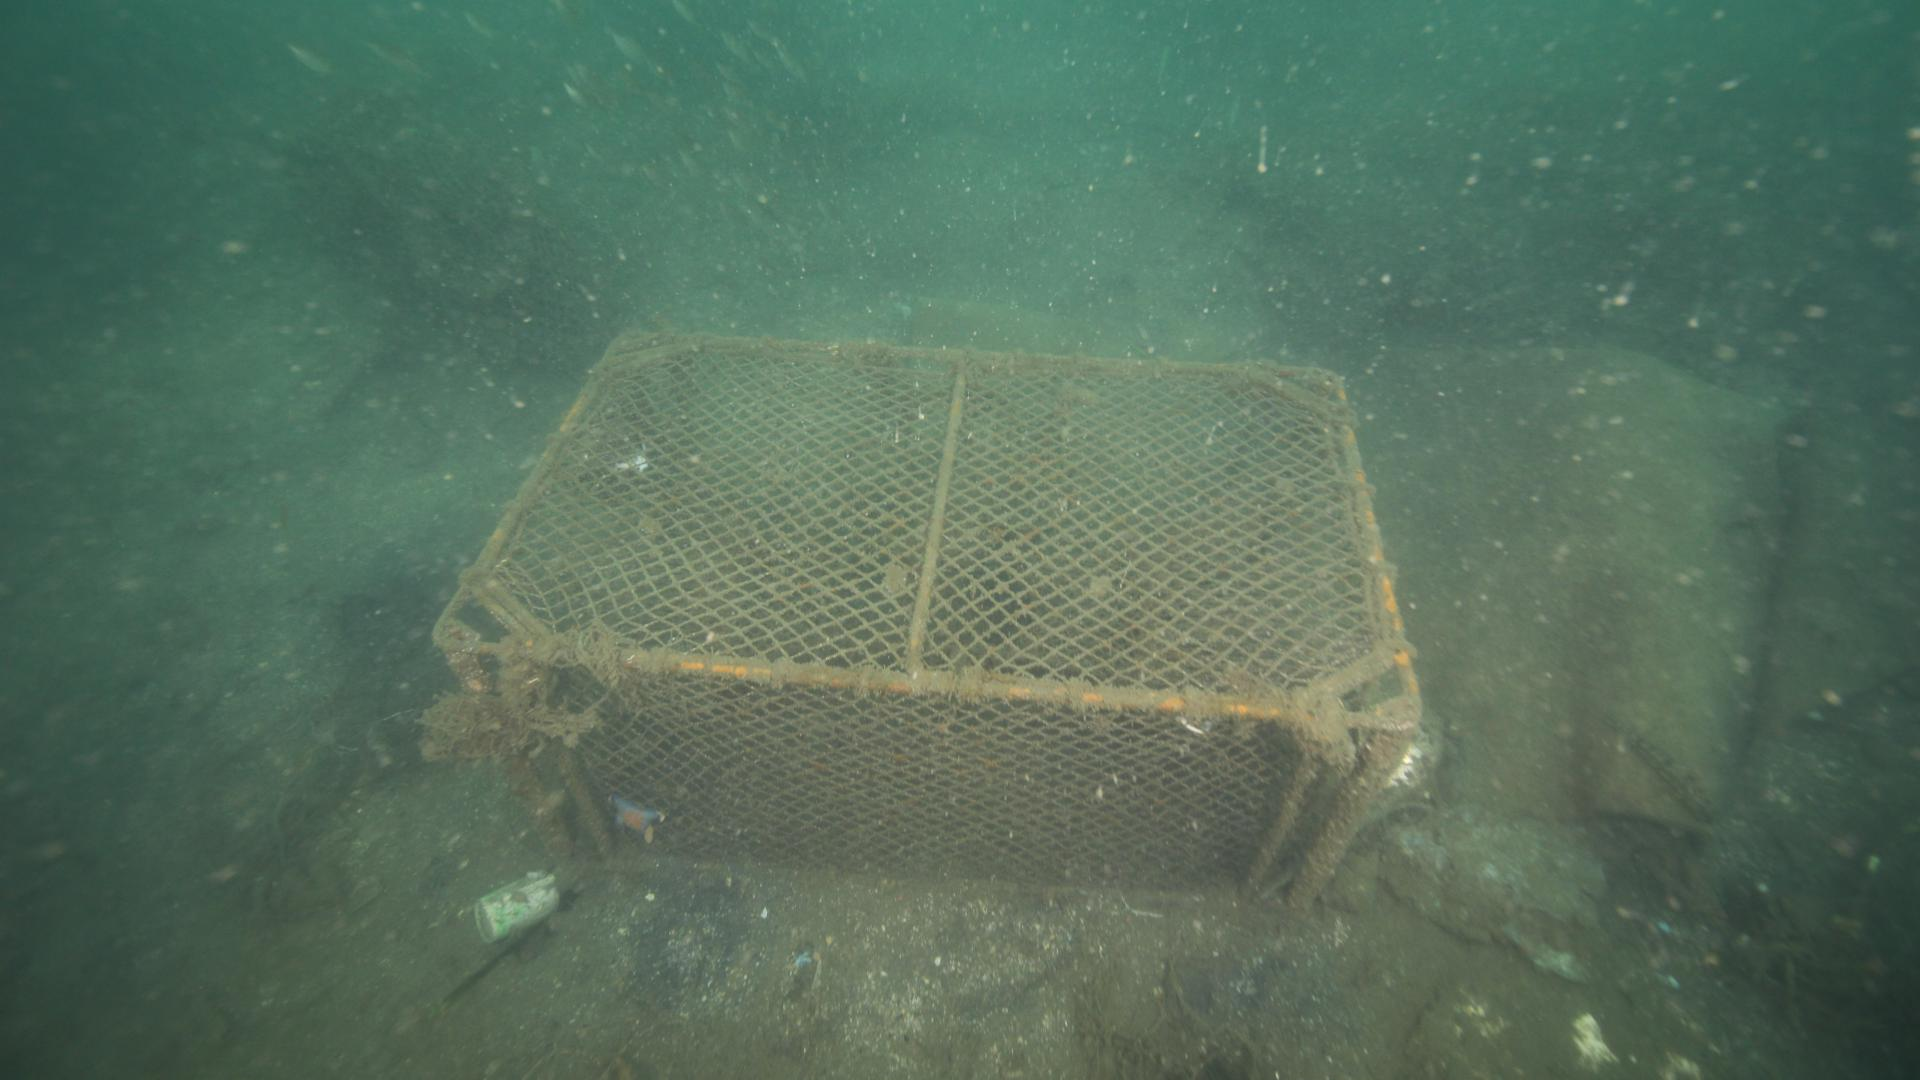rectangular fish trap: (429, 316, 1425, 919)
